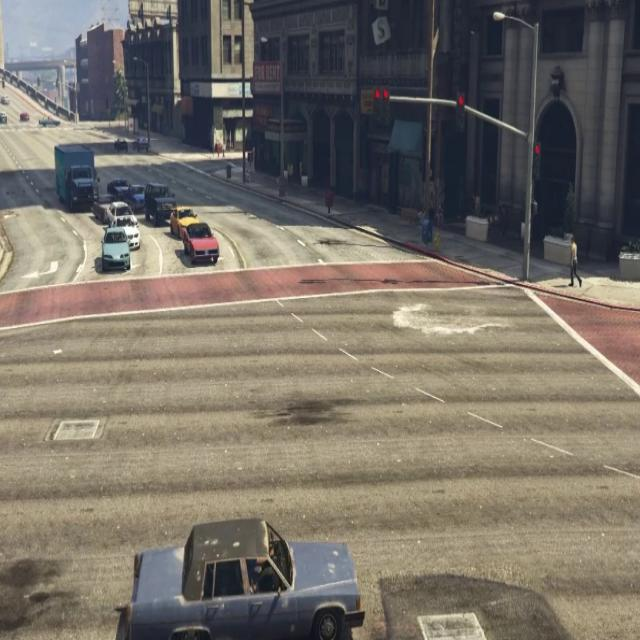Red-Signal: (370, 80, 392, 142), (452, 86, 469, 143), (532, 133, 548, 188)
